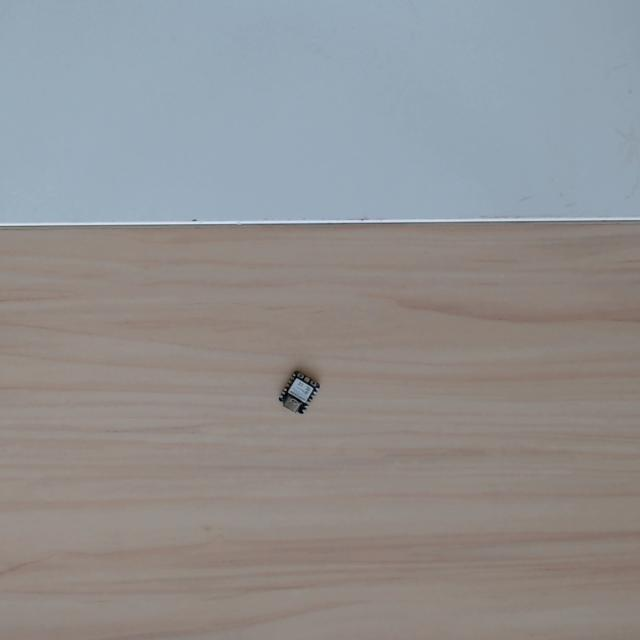ESP32C3-Xiao: (273, 367, 323, 420)
